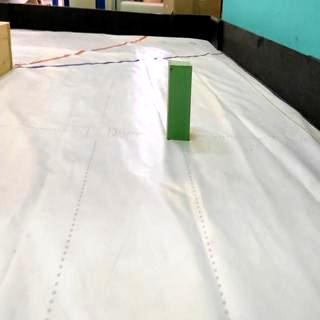greenbox: (166, 61, 194, 141)
